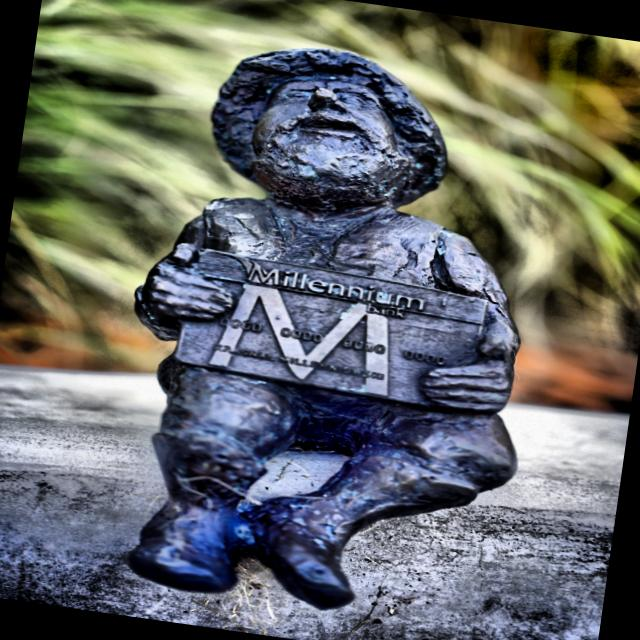Krasnal_Millenniowski: (128, 46, 520, 613)
